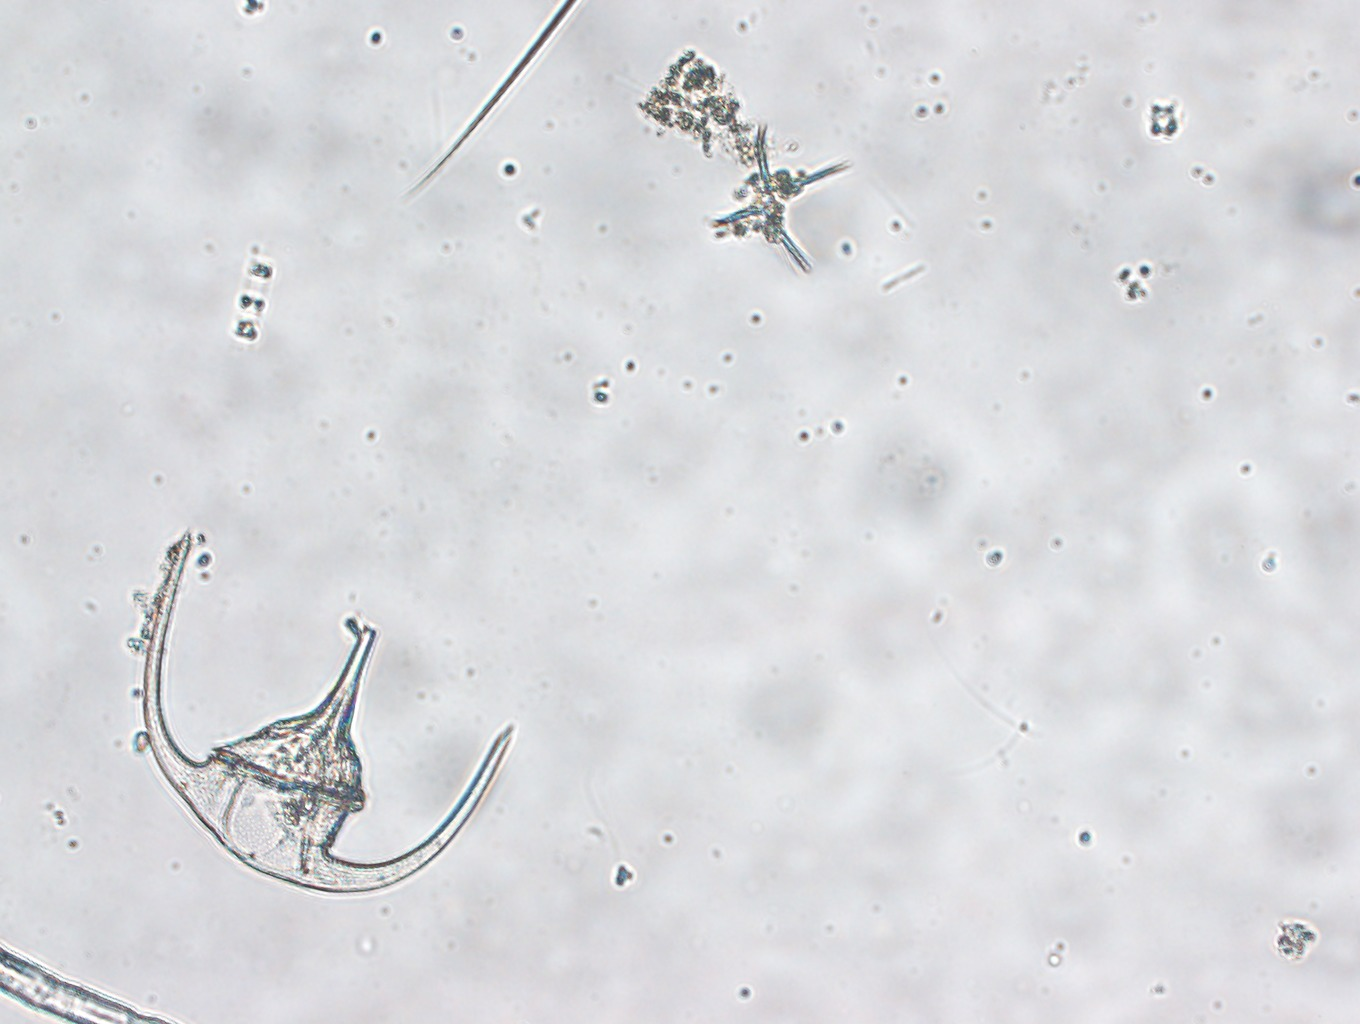ceratium tripos: (141, 527, 513, 895)
skeletonema: (234, 258, 270, 339)
